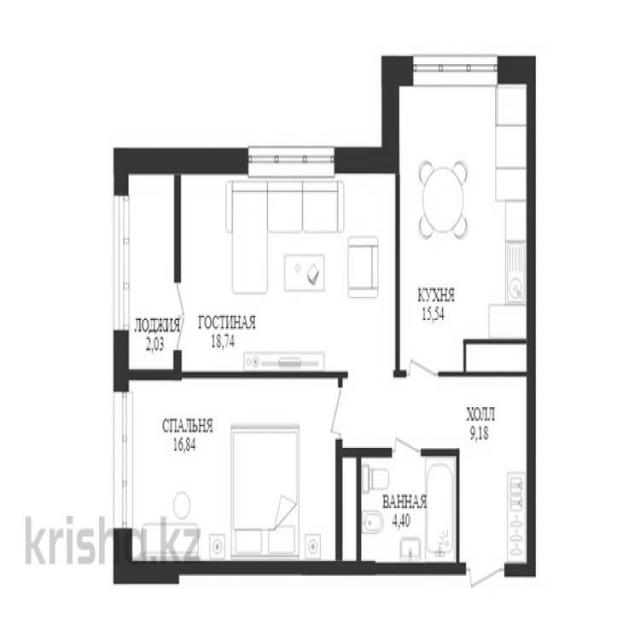balcony: (120, 162, 175, 376)
bathroom: (364, 446, 459, 572)
hallway: (460, 380, 529, 575), (346, 374, 460, 446)
kitchen: (395, 68, 530, 375)
living_room: (178, 163, 392, 371), (122, 377, 340, 560)
